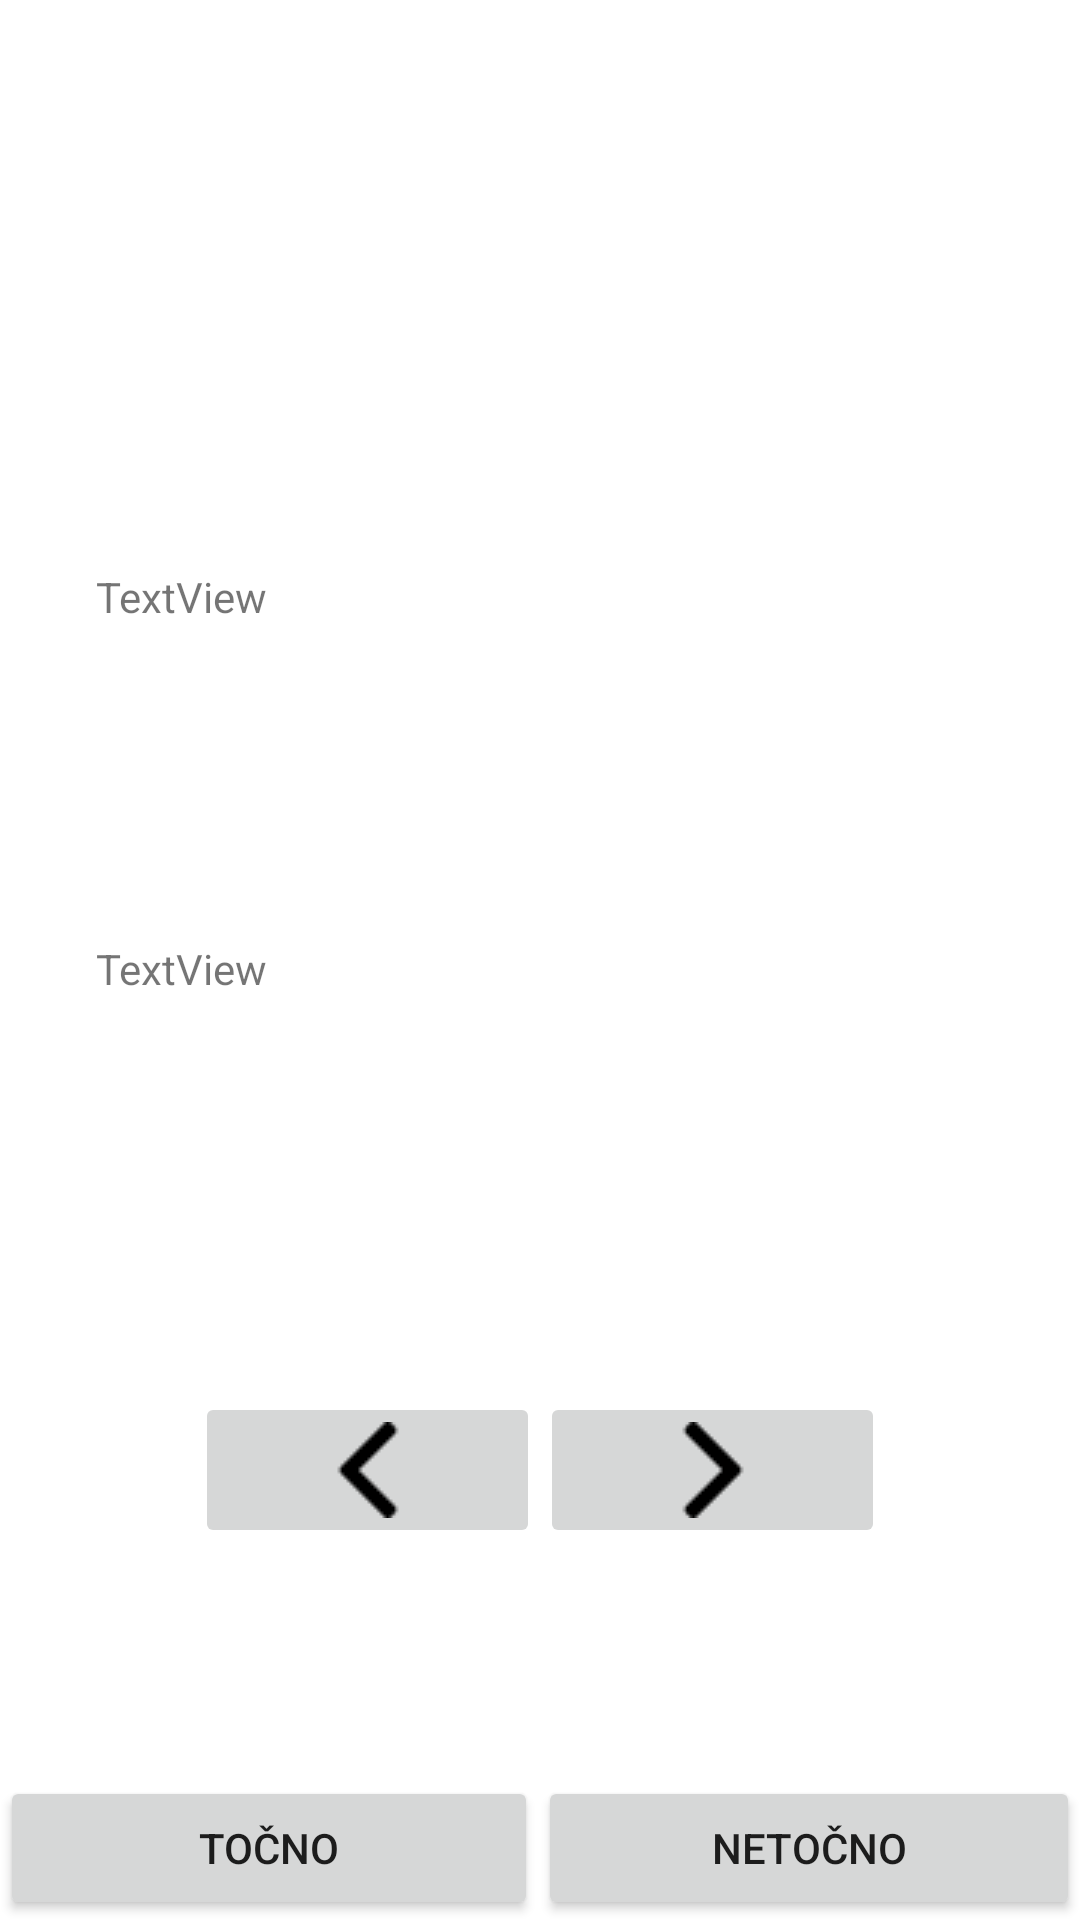

Locate icon controls on the screen. Image size 1080px x 1920px, boxes as (x1, y1, x2, y2).
left arrow: (207, 1410, 528, 1530)
right arrow: (552, 1410, 873, 1530)
